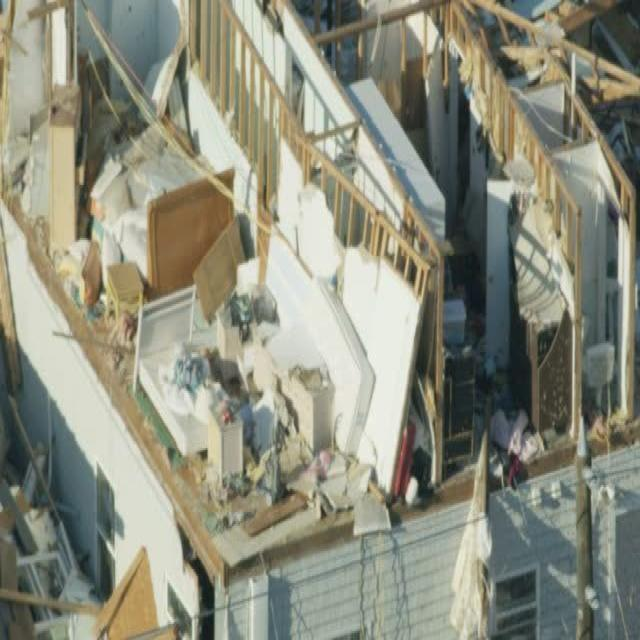collapsed_building: (0, 0, 635, 539)
